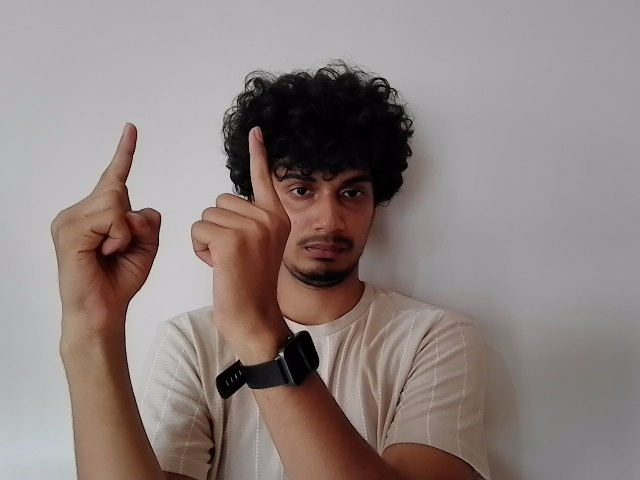play: (49, 119, 289, 316)
